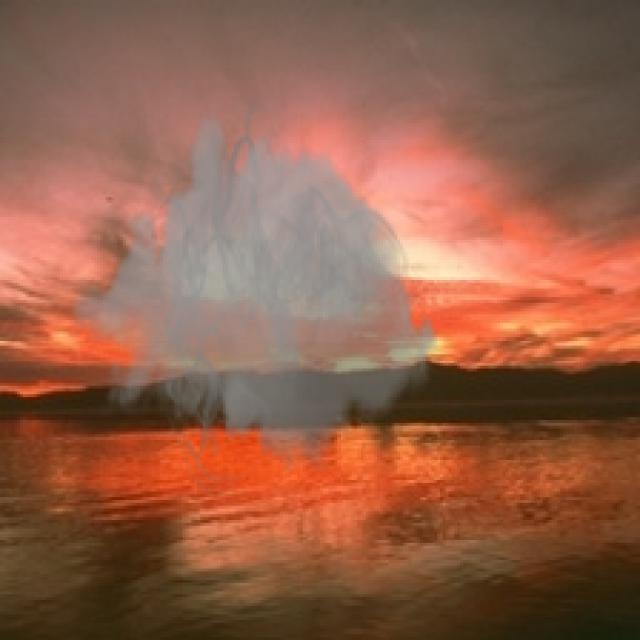smoke: (69, 97, 440, 503)
